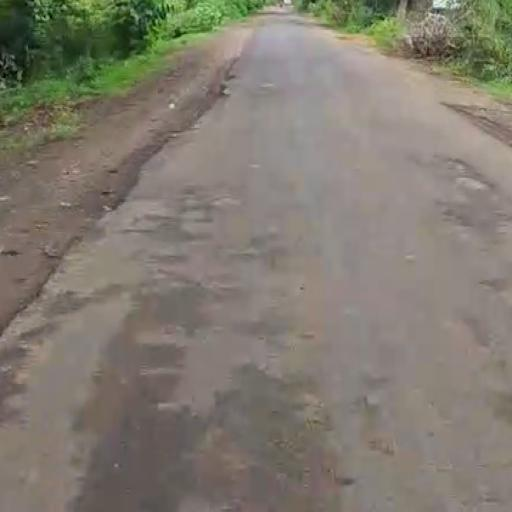edge_damage: (14, 55, 260, 337)
